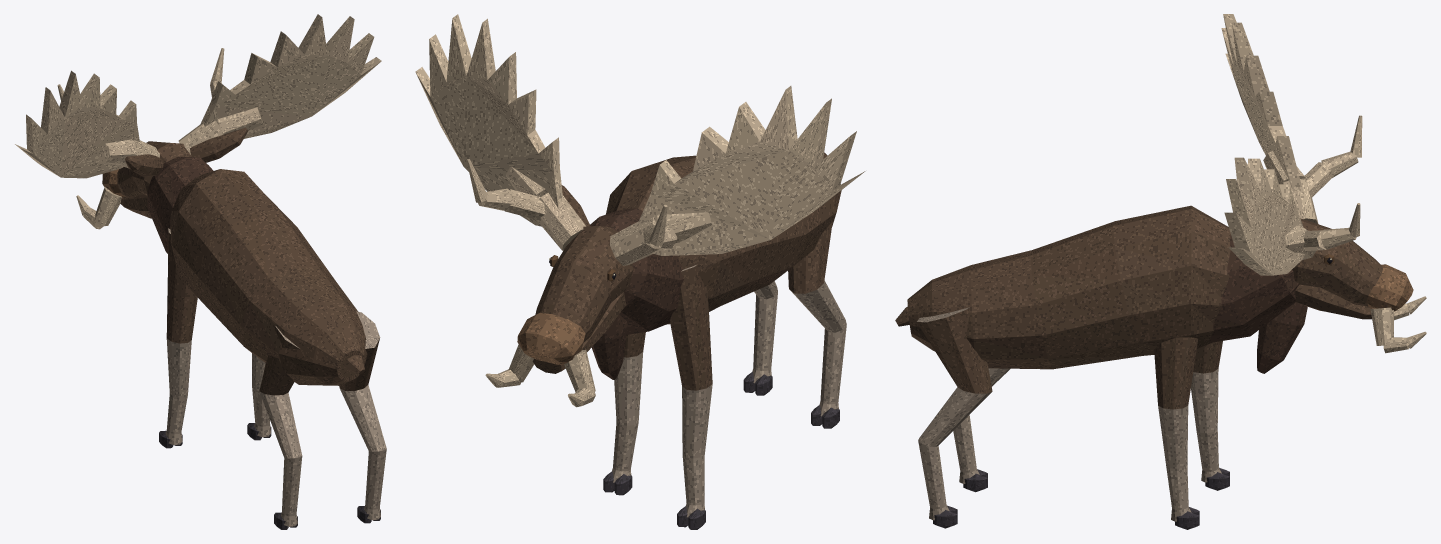
File: mon_tusked_moose.glb
The picture shows the model from 3 angles, left to right: view 1: azimuth 30°, elevation 25°; view 2: azimuth 150°, elevation 25°; view 3: azimuth 270°, elevation 25°; orthographic projection. The views are drawn at different scales.
Parts seen in each view (by area): view 1: closed_body; view 2: closed_body; view 3: closed_body.
Part boxes in pixels (<box>): closed_body: <box>15,14,386,529</box>; closed_body: <box>415,14,865,529</box>; closed_body: <box>895,14,1426,529</box>.
Bounding box in the file's own units: 3.04 × 3.12 × 3.59.
1 material, 1 textured.
